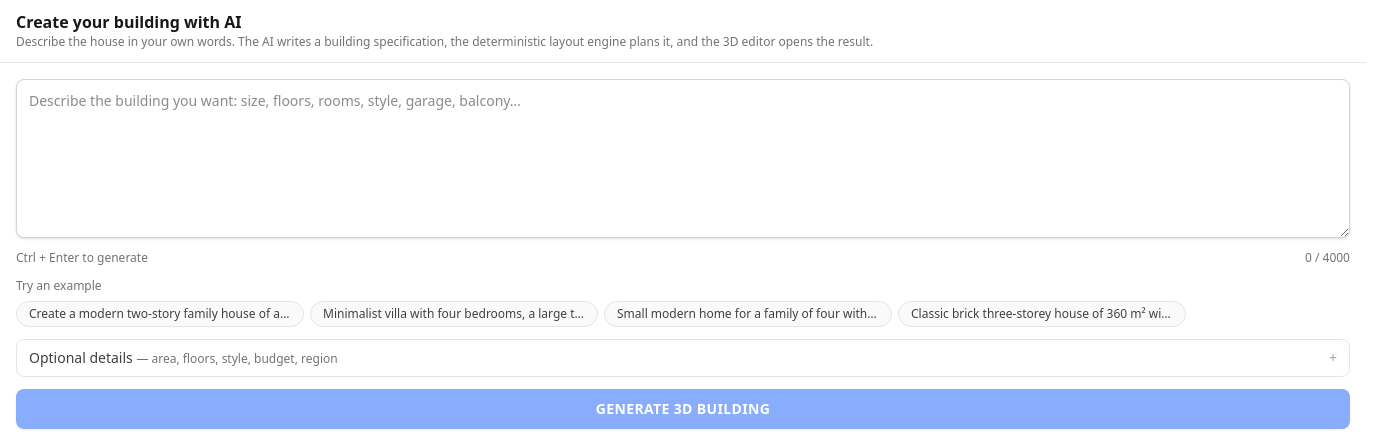
Test: AIGeneratorPanel › fills the description from an example prompt
This screenshot has width=1378, height=447.
Click the button "Minimalist villa with four bedrooms, a large terrace and panoramic windows.".
click(454, 314)  # box [310,300,598,326]
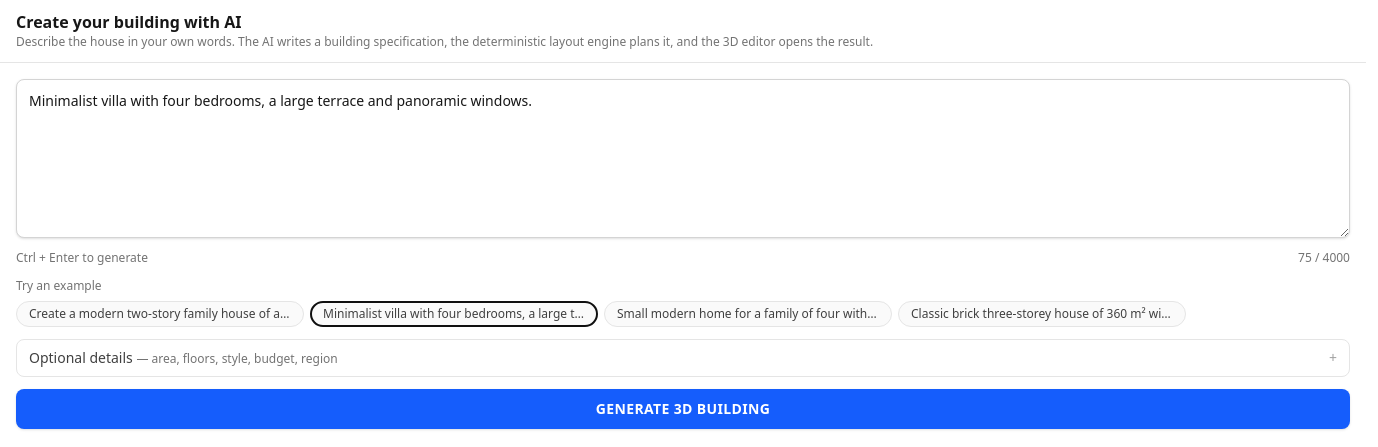
expect the text box named "Building description" holds "Minimalist villa with four bedrooms, a large terrace and panoramic windows.": met, box [16,79,1350,238]
